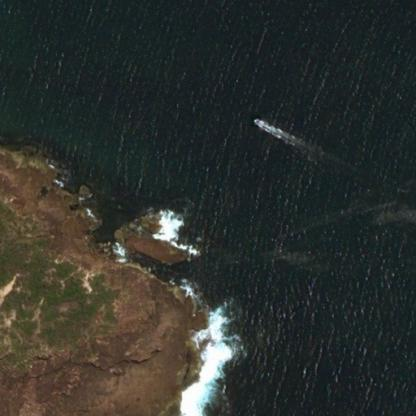ship: (245, 110, 270, 132)
